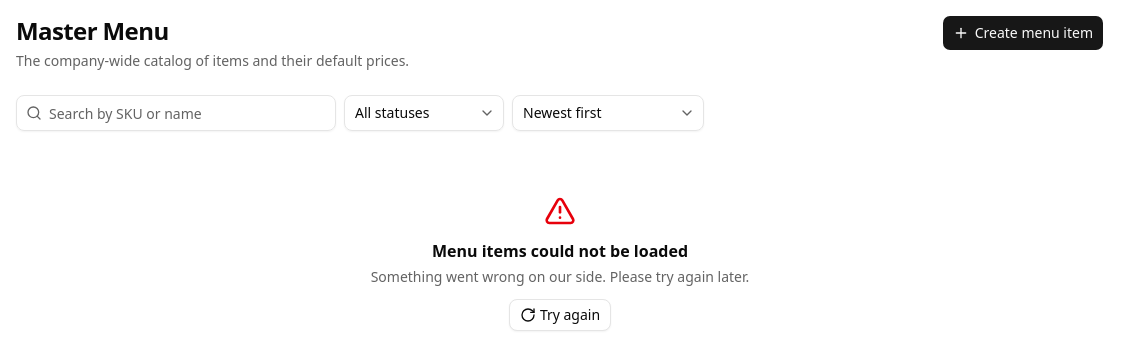
Test: Master menu list › recovers from errors with retry
Expected: the heading "Menu items could not be loaded" is shown, left=432, top=240, right=688, bottom=262
Click the button "Try again": {"x": 560, "y": 315} left=509, top=299, right=611, bottom=331
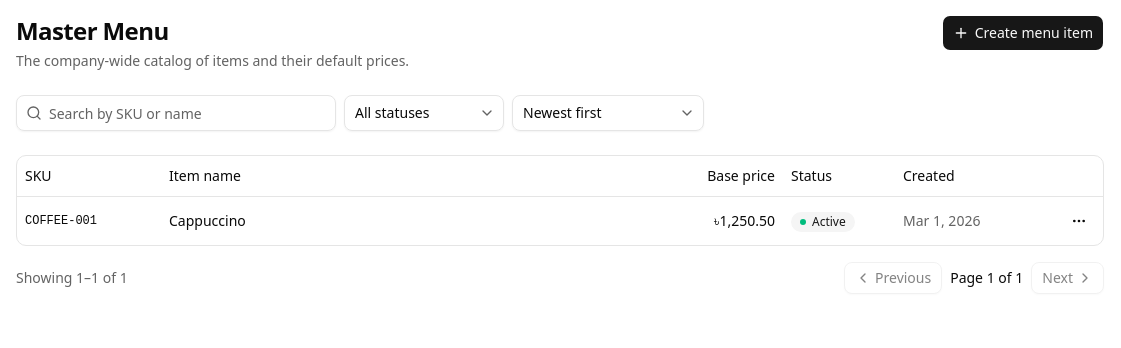
Expected: the link "Cappuccino" is shown, left=169, top=210, right=246, bottom=230
